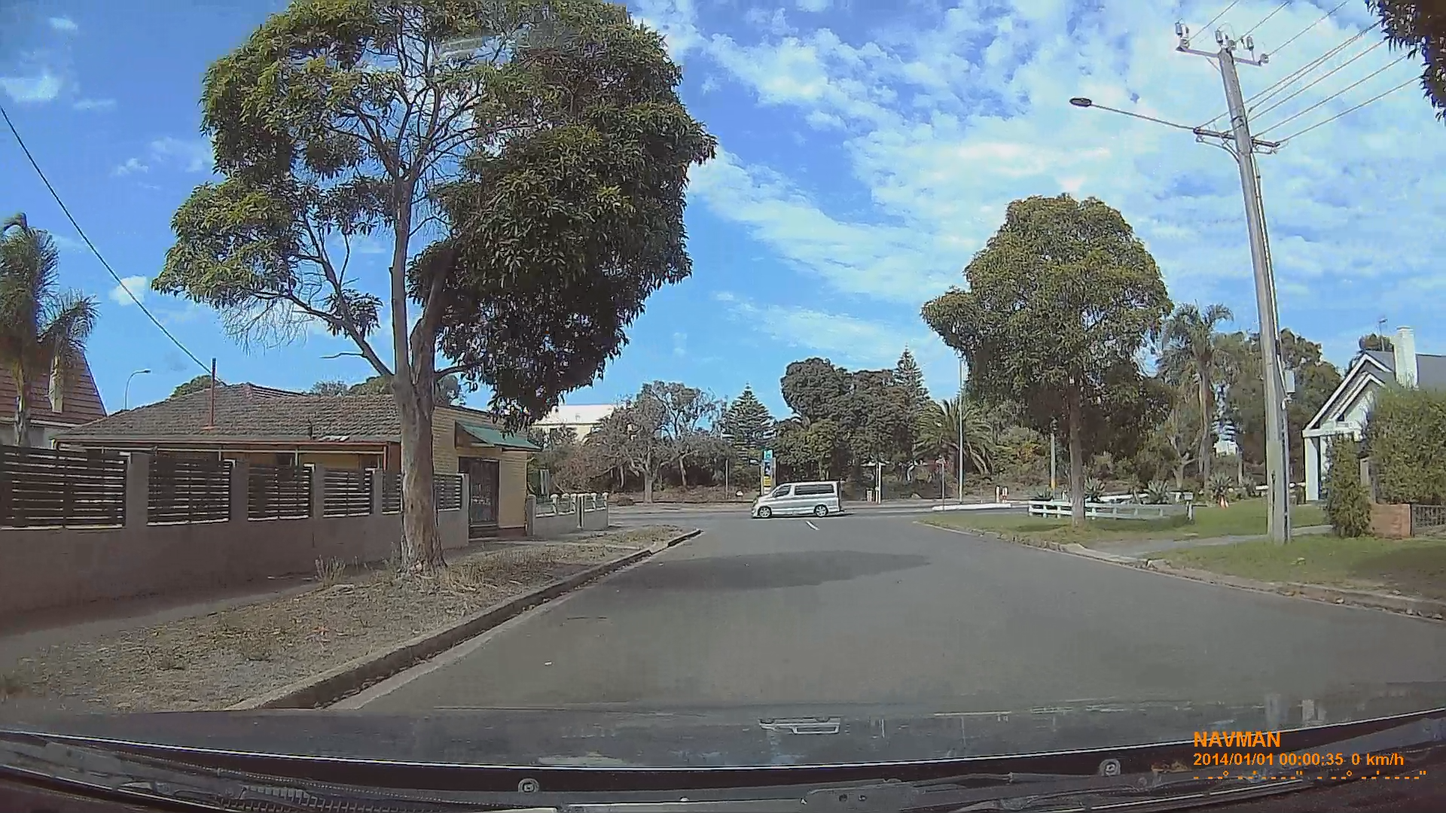road barriers: (0, 512, 459, 628), (1031, 495, 1188, 519)
